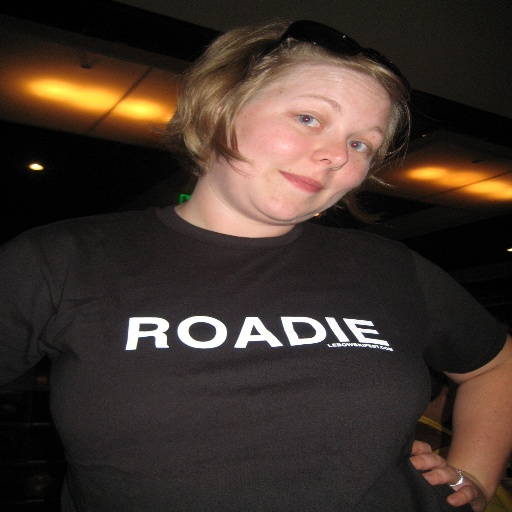hand: (425, 435, 486, 500)
